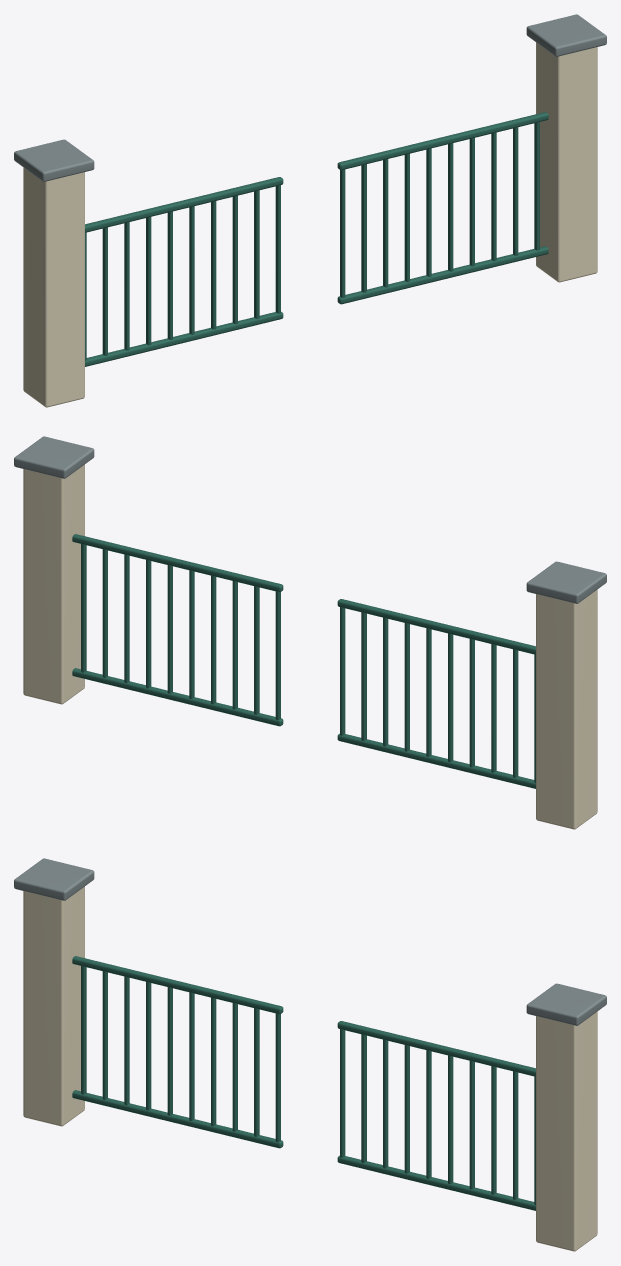
File: residence-gate.glb
3 renders of one model, top to bottom at view 1: azimuth 30°, elevation 25°; view 2: azimuth 150°, elevation 25°; view 3: azimuth 330°, elevation 25°, orthographic.
Parts seen in each view (by area): view 1: Gate masonry pillar, Gate frame, Pillar cap; view 2: Gate masonry pillar, Gate frame, Pillar cap; view 3: Gate masonry pillar, Gate frame, Pillar cap.
Part boxes in pixels (box(x1,y1,x2,y2)): Gate masonry pillar: box(23, 42, 597, 407); Gate frame: box(85, 112, 548, 366); Pillar cap: box(14, 14, 606, 181); Gate masonry pillar: box(23, 464, 597, 829); Gate frame: box(72, 534, 535, 788); Pillar cap: box(14, 436, 606, 603); Gate masonry pillar: box(23, 886, 597, 1251); Gate frame: box(72, 956, 535, 1210); Pillar cap: box(14, 858, 606, 1025).
Size of the model in its own units: 7.05 by 2.86 by 0.65.
